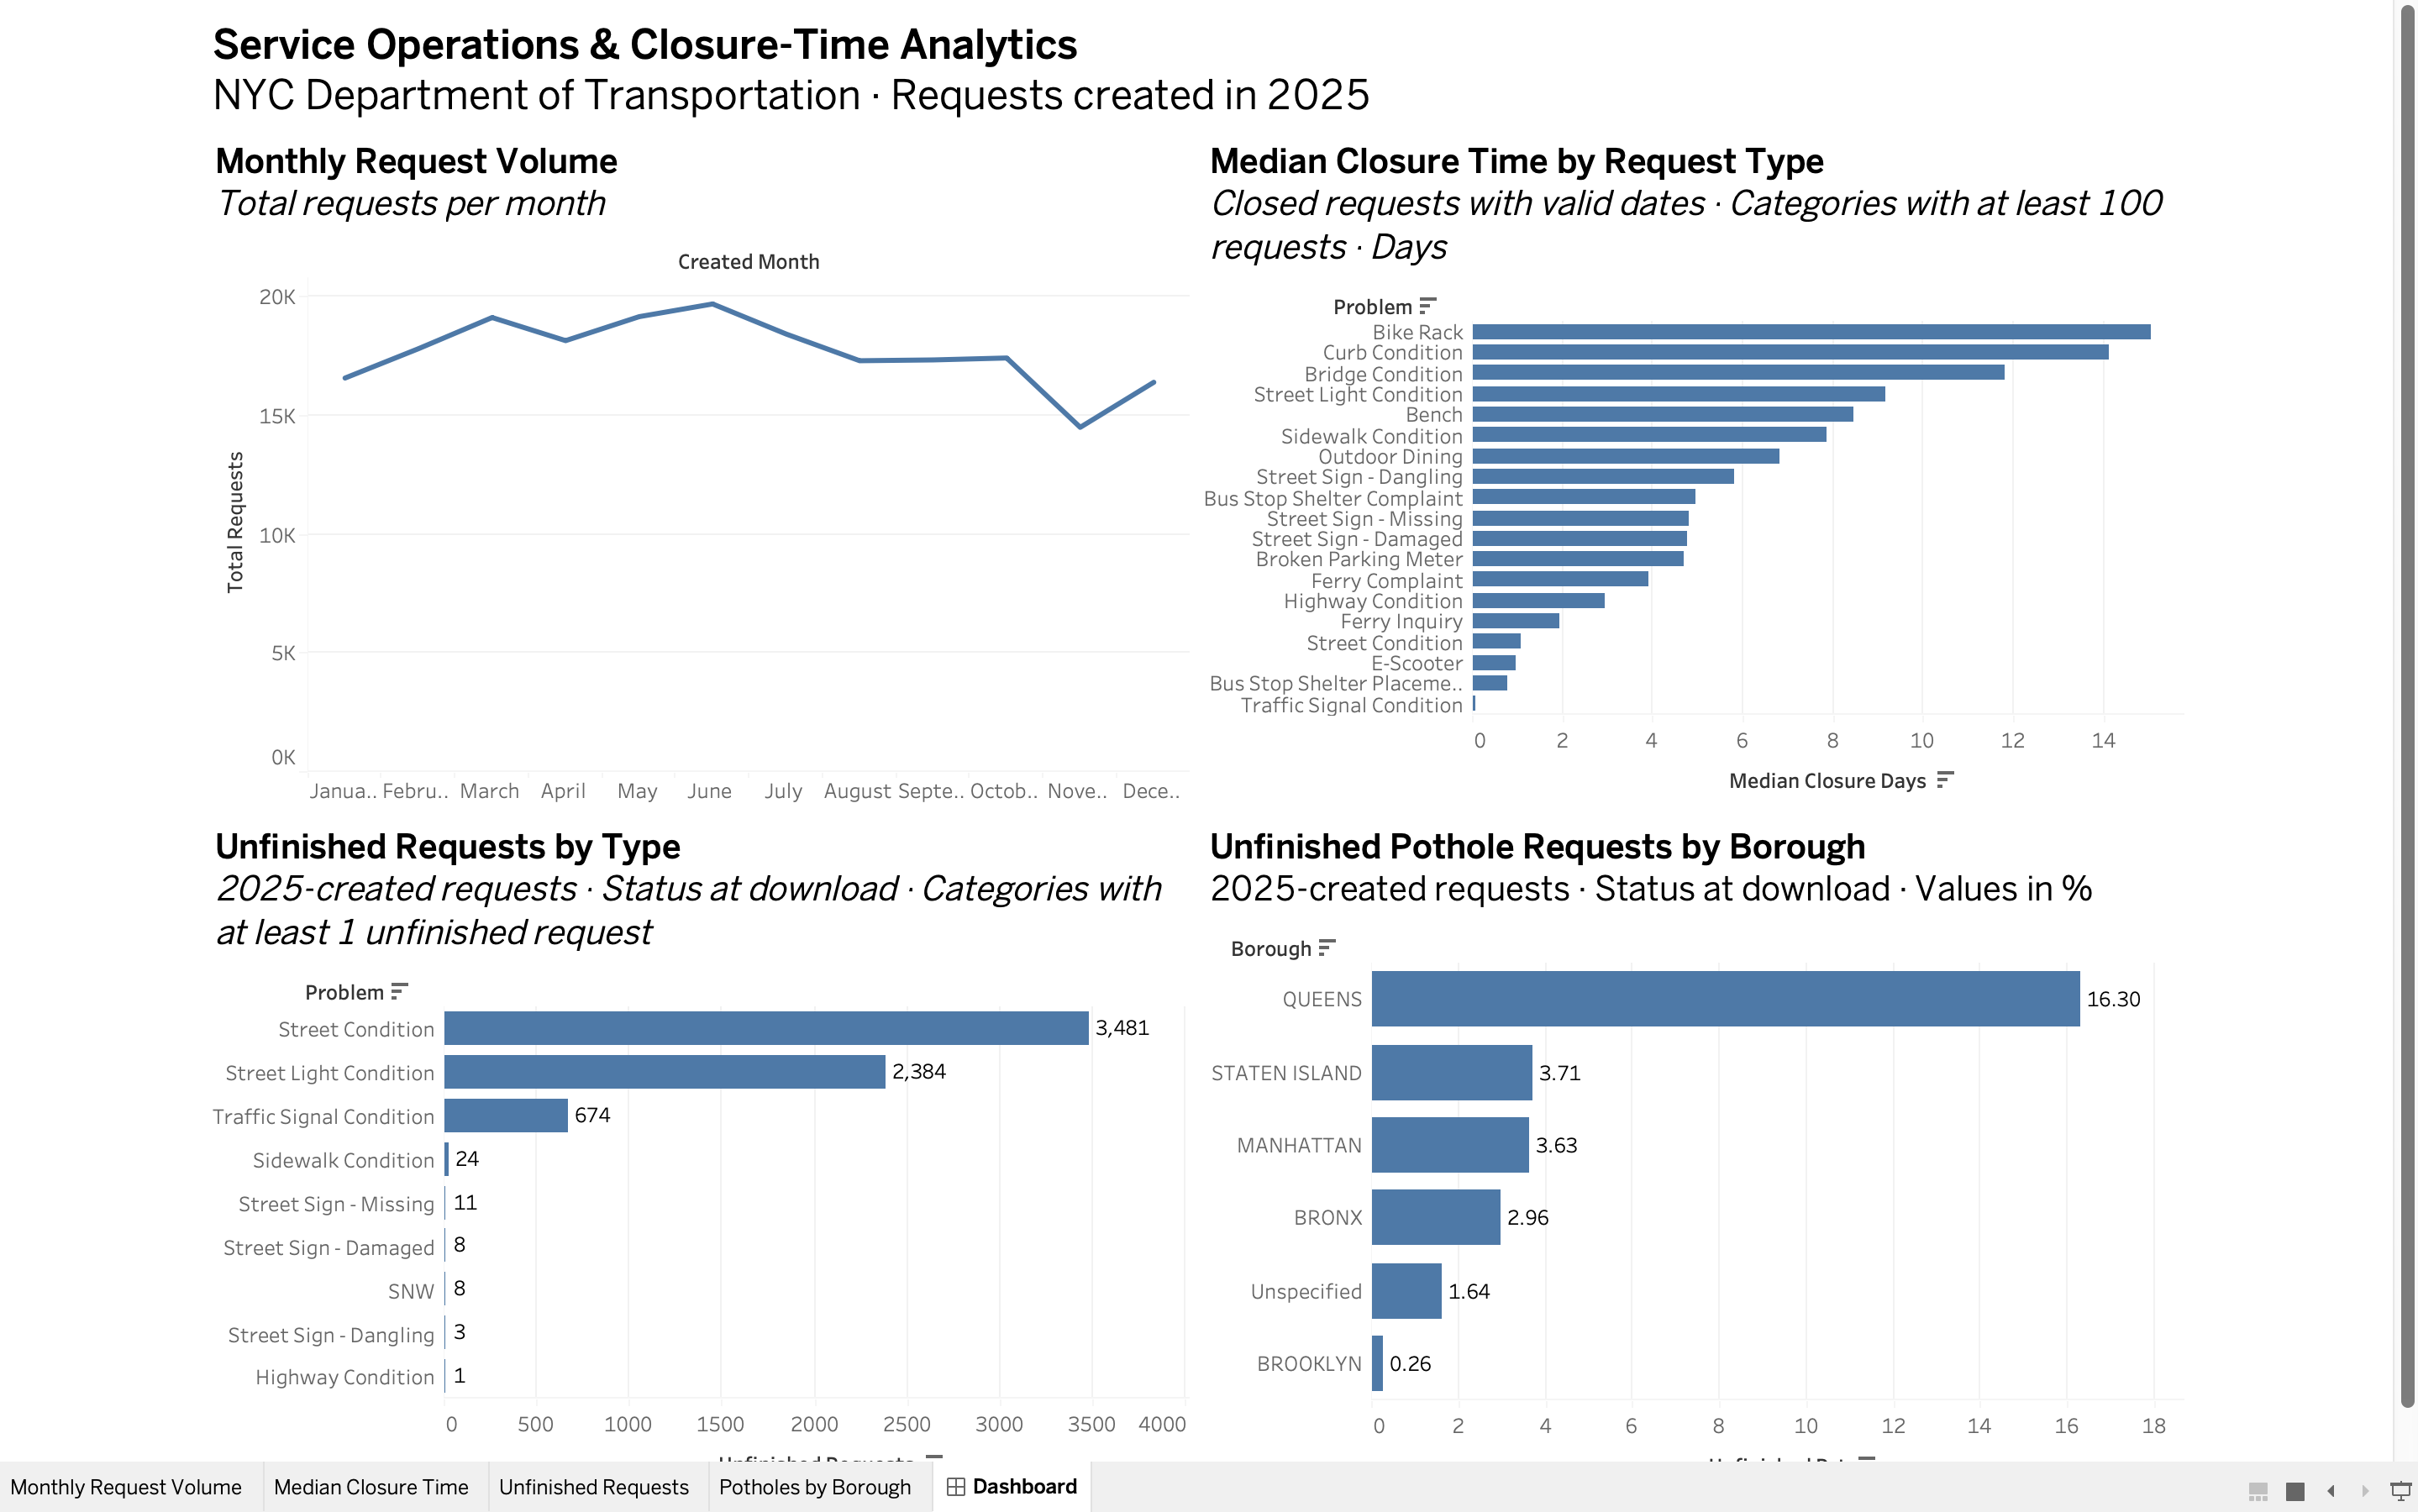

Layout of this report page (visuals, bound fields, positions):
{"tool":"tableau","page":{"name":"Dashboard","canvas":[1200,900],"ordinal":0},"visuals":[{"type":"title","box":[8,8,1184,68]},{"type":"worksheet","title":"Monthly Request Volume","mark":"Automatic","rows":["total_requests"],"cols":["created_month"],"box":[8,76,592,408]},{"type":"worksheet","title":"Median Closure Time","mark":"Automatic","rows":["problem"],"cols":["median_closure_days"],"box":[600,76,592,408]},{"type":"worksheet","title":"Unfinished Requests","mark":"Automatic","rows":["problem"],"cols":["unfinished_requests"],"box":[8,484,592,408]},{"type":"worksheet","title":"Potholes by Borough","mark":"Automatic","rows":["borough"],"cols":["unfinished_pct"],"box":[600,484,592,408]}]}

Visuals, with their boxes in screenshot pixels (x1, y1, x2, y2):
title: (510,82,2401,191)
"Monthly Request Volume" worksheet: (510,191,1456,843)
"Median Closure Time" worksheet: (1456,191,2401,843)
"Unfinished Requests" worksheet: (510,843,1456,1494)
"Potholes by Borough" worksheet: (1456,843,2401,1494)
